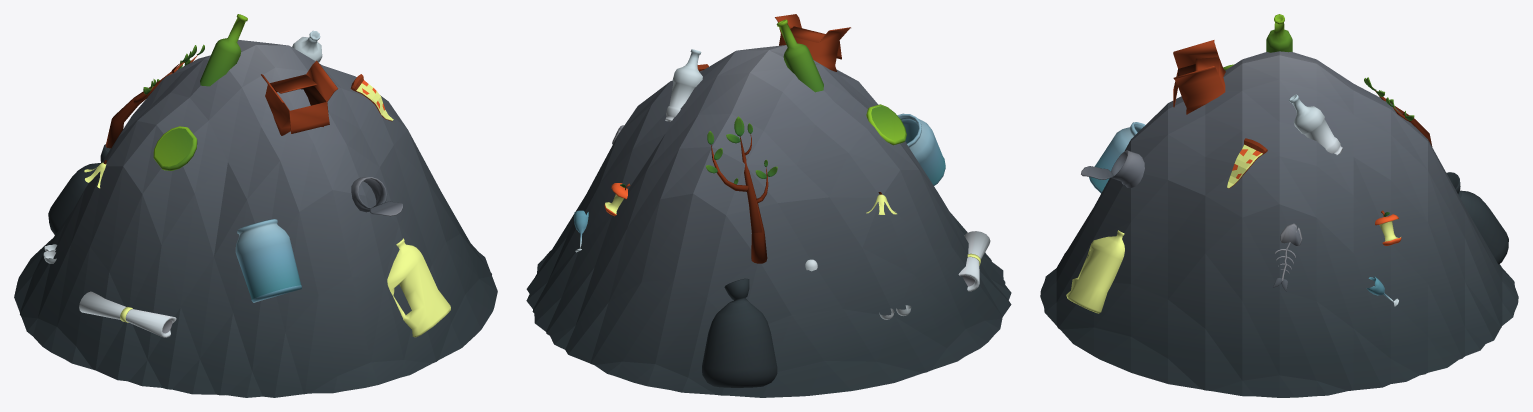
Rendered from Montaña_Basura.fbx.
3 views of the same model, side by side, from view 1: azimuth 30°, elevation 25°; view 2: azimuth 150°, elevation 25°; view 3: azimuth 270°, elevation 25° (orthographic). The views are drawn at different scales.
Parts seen in each view (by area): view 1: Plane.002; view 2: Plane.002; view 3: Plane.002.
Boxes of the visible parts, x1,y1,x2,y2 form: Plane.002: (14,14,497,397); Plane.002: (526,14,1011,397); Plane.002: (1040,14,1518,397).
Size of the model in its own units: 8.06 by 5.22 by 8.06.
